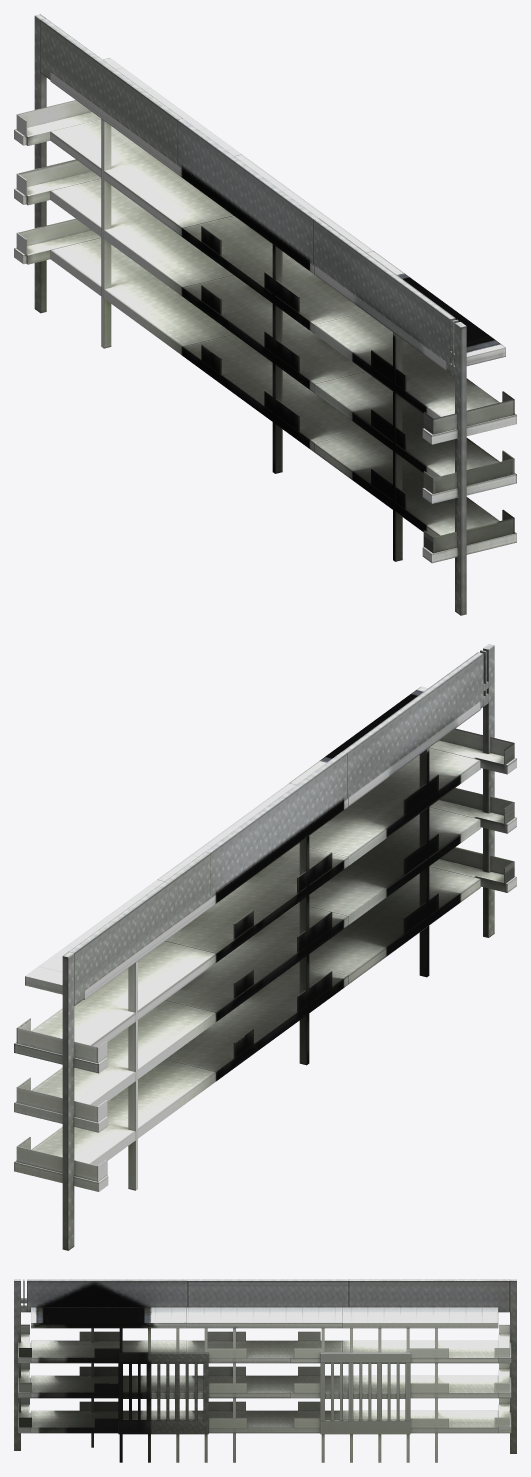
Rendered from teaching_A2Texture.glb.
3 renders of one model, top to bottom at view 1: azimuth 30°, elevation 25°; view 2: azimuth 150°, elevation 25°; view 3: azimuth 270°, elevation 25°, orthographic. The views are drawn at different scales.
Visible parts, largest first — view 1: 教学楼A2; view 2: 教学楼A2; view 3: 教学楼A2.
Boxes of the visible parts, <box> form: 教学楼A2: <box>14,14,516,615</box>; 教学楼A2: <box>14,644,516,1250</box>; 教学楼A2: <box>14,1279,516,1462</box>.
Size of the model in its own units: 6.15 by 19.3 by 50.83.
1 material, 1 textured.
